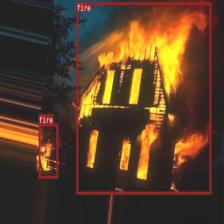fire: (76, 2, 211, 194), (38, 123, 58, 178)
